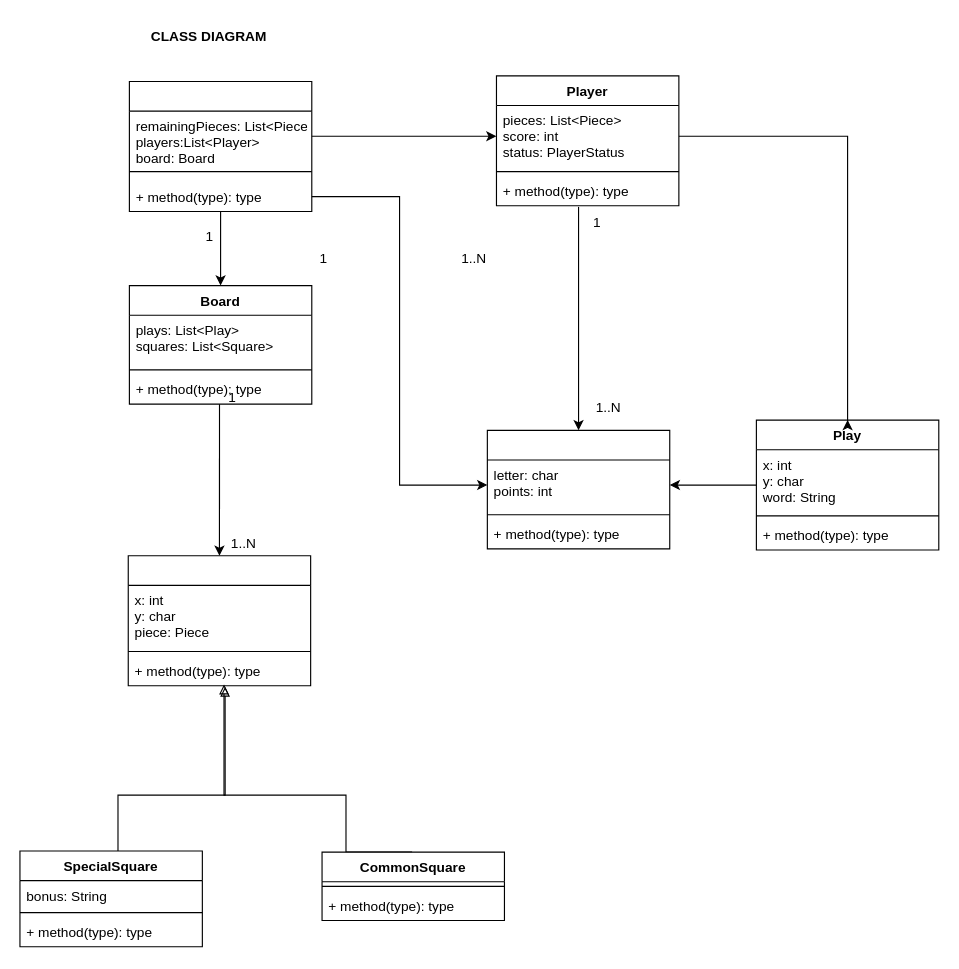
The diagram is 959 pixels wide and 969 high, and some of its shapes have lost their labels. Here are the shapes that lost their labels. From the top down, the box of each, then its label:
(128, 80, 312, 211): Game
(486, 429, 670, 549): Piece
(127, 555, 311, 686): Square
